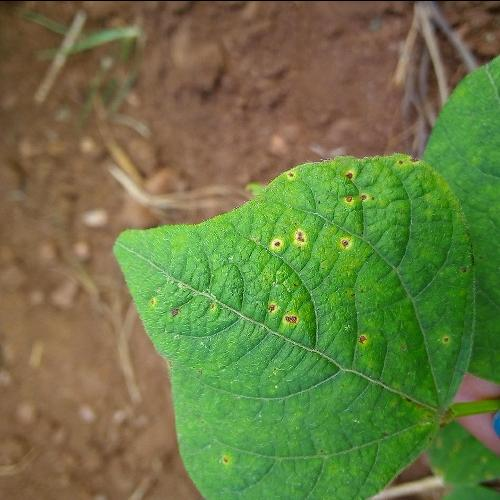hawar: (260, 144, 392, 336)
